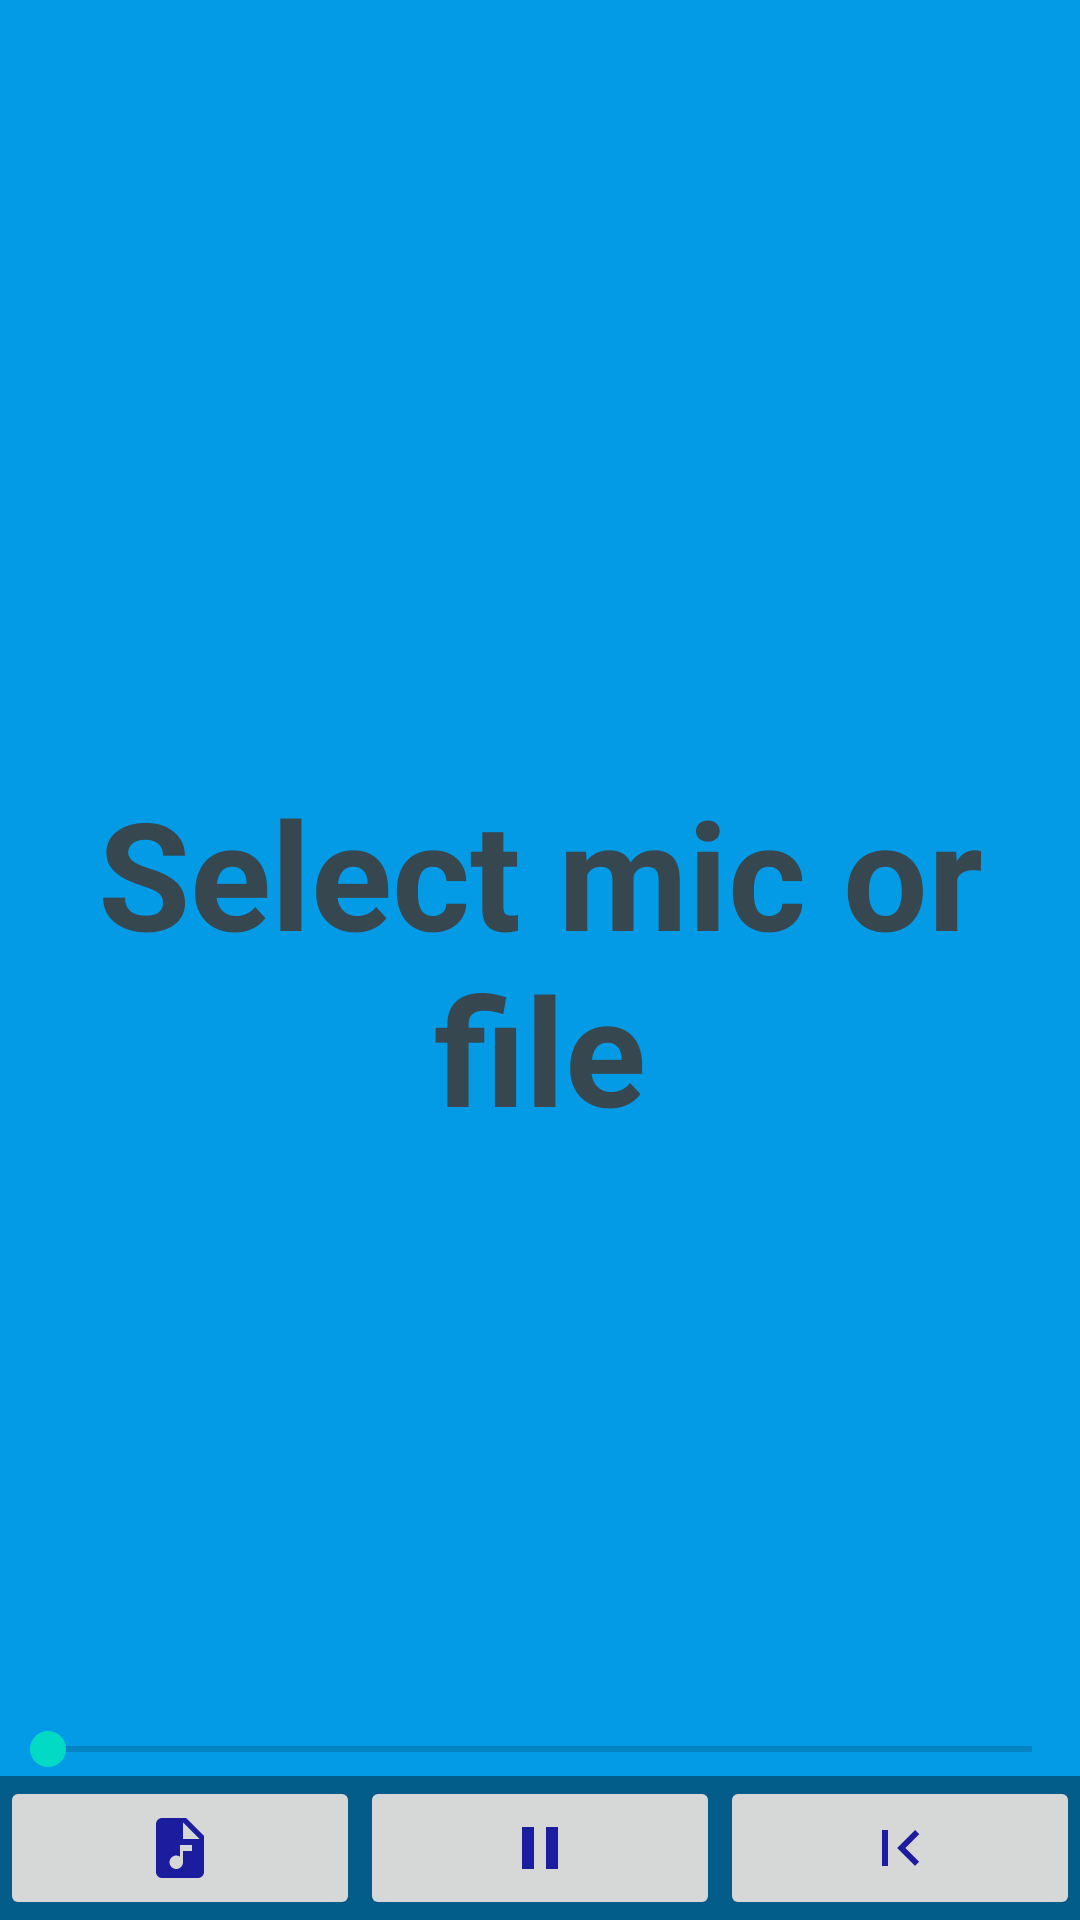

Point at icon controls on the screen. Image size 1080px×1920px, points as [x,y].
Load File: [180,1848]
Mark Begin and End of selection: [900,1848]
Play and Pause: [540,1848]
